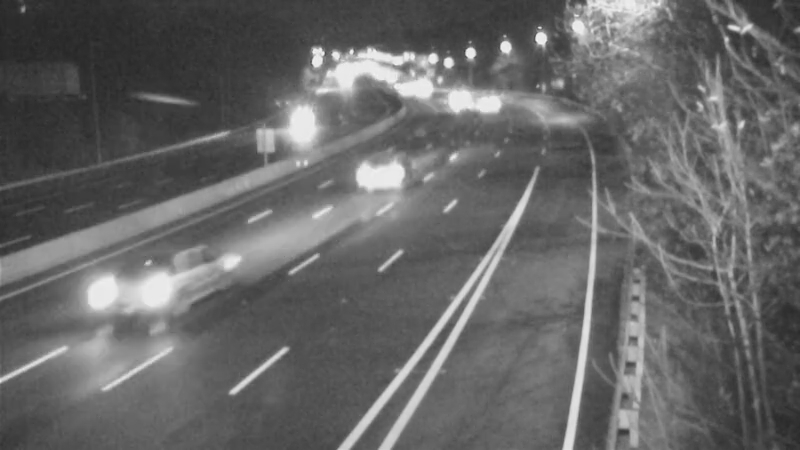vehicle: (348, 126, 428, 206), (85, 254, 165, 334), (431, 66, 481, 116), (438, 83, 488, 133), (457, 75, 507, 125), (260, 111, 310, 161)
